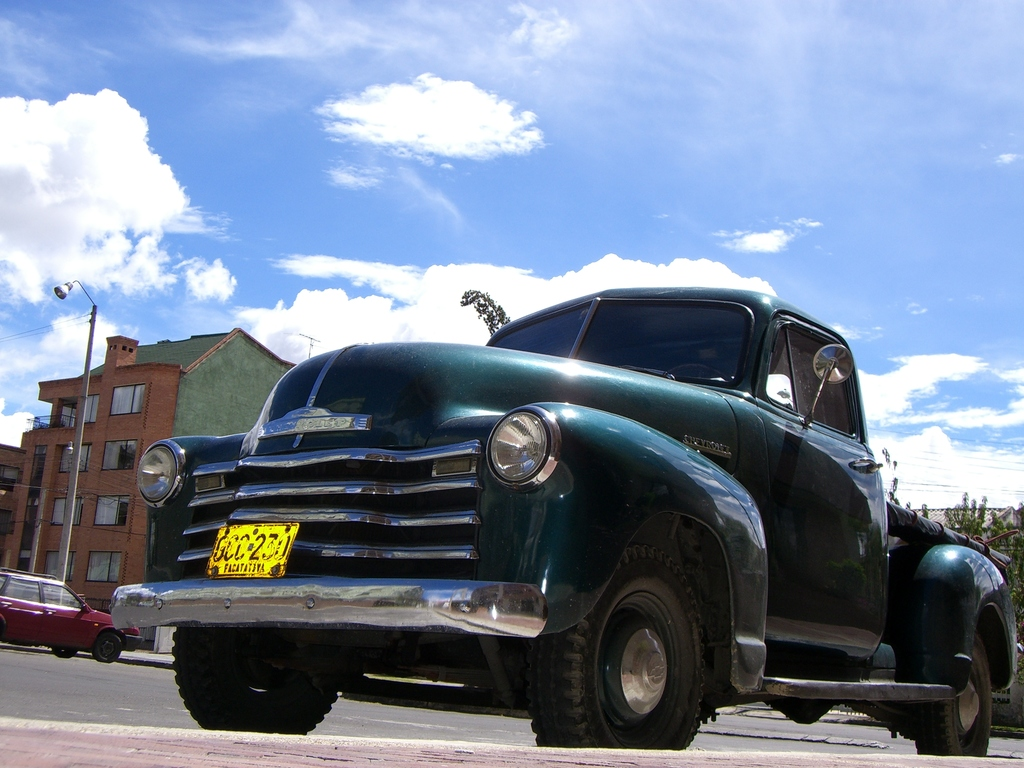car: (104, 262, 1024, 762), (1, 561, 154, 676)
